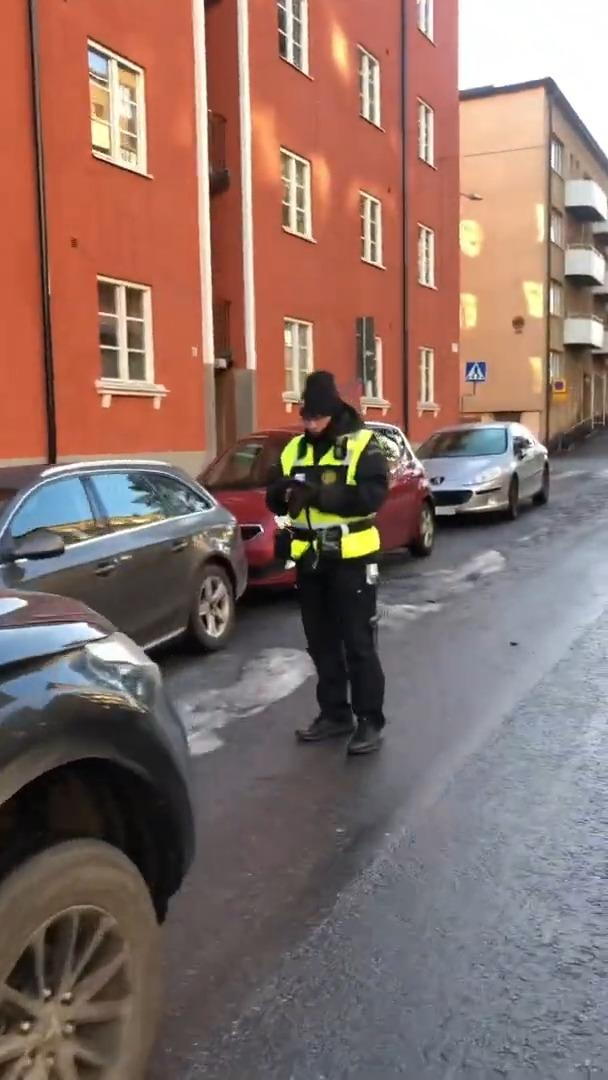parking-attendant: (266, 371, 388, 754)
